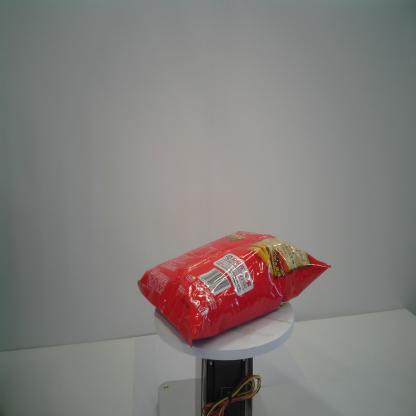Puffed Food: (136, 229, 333, 349)
